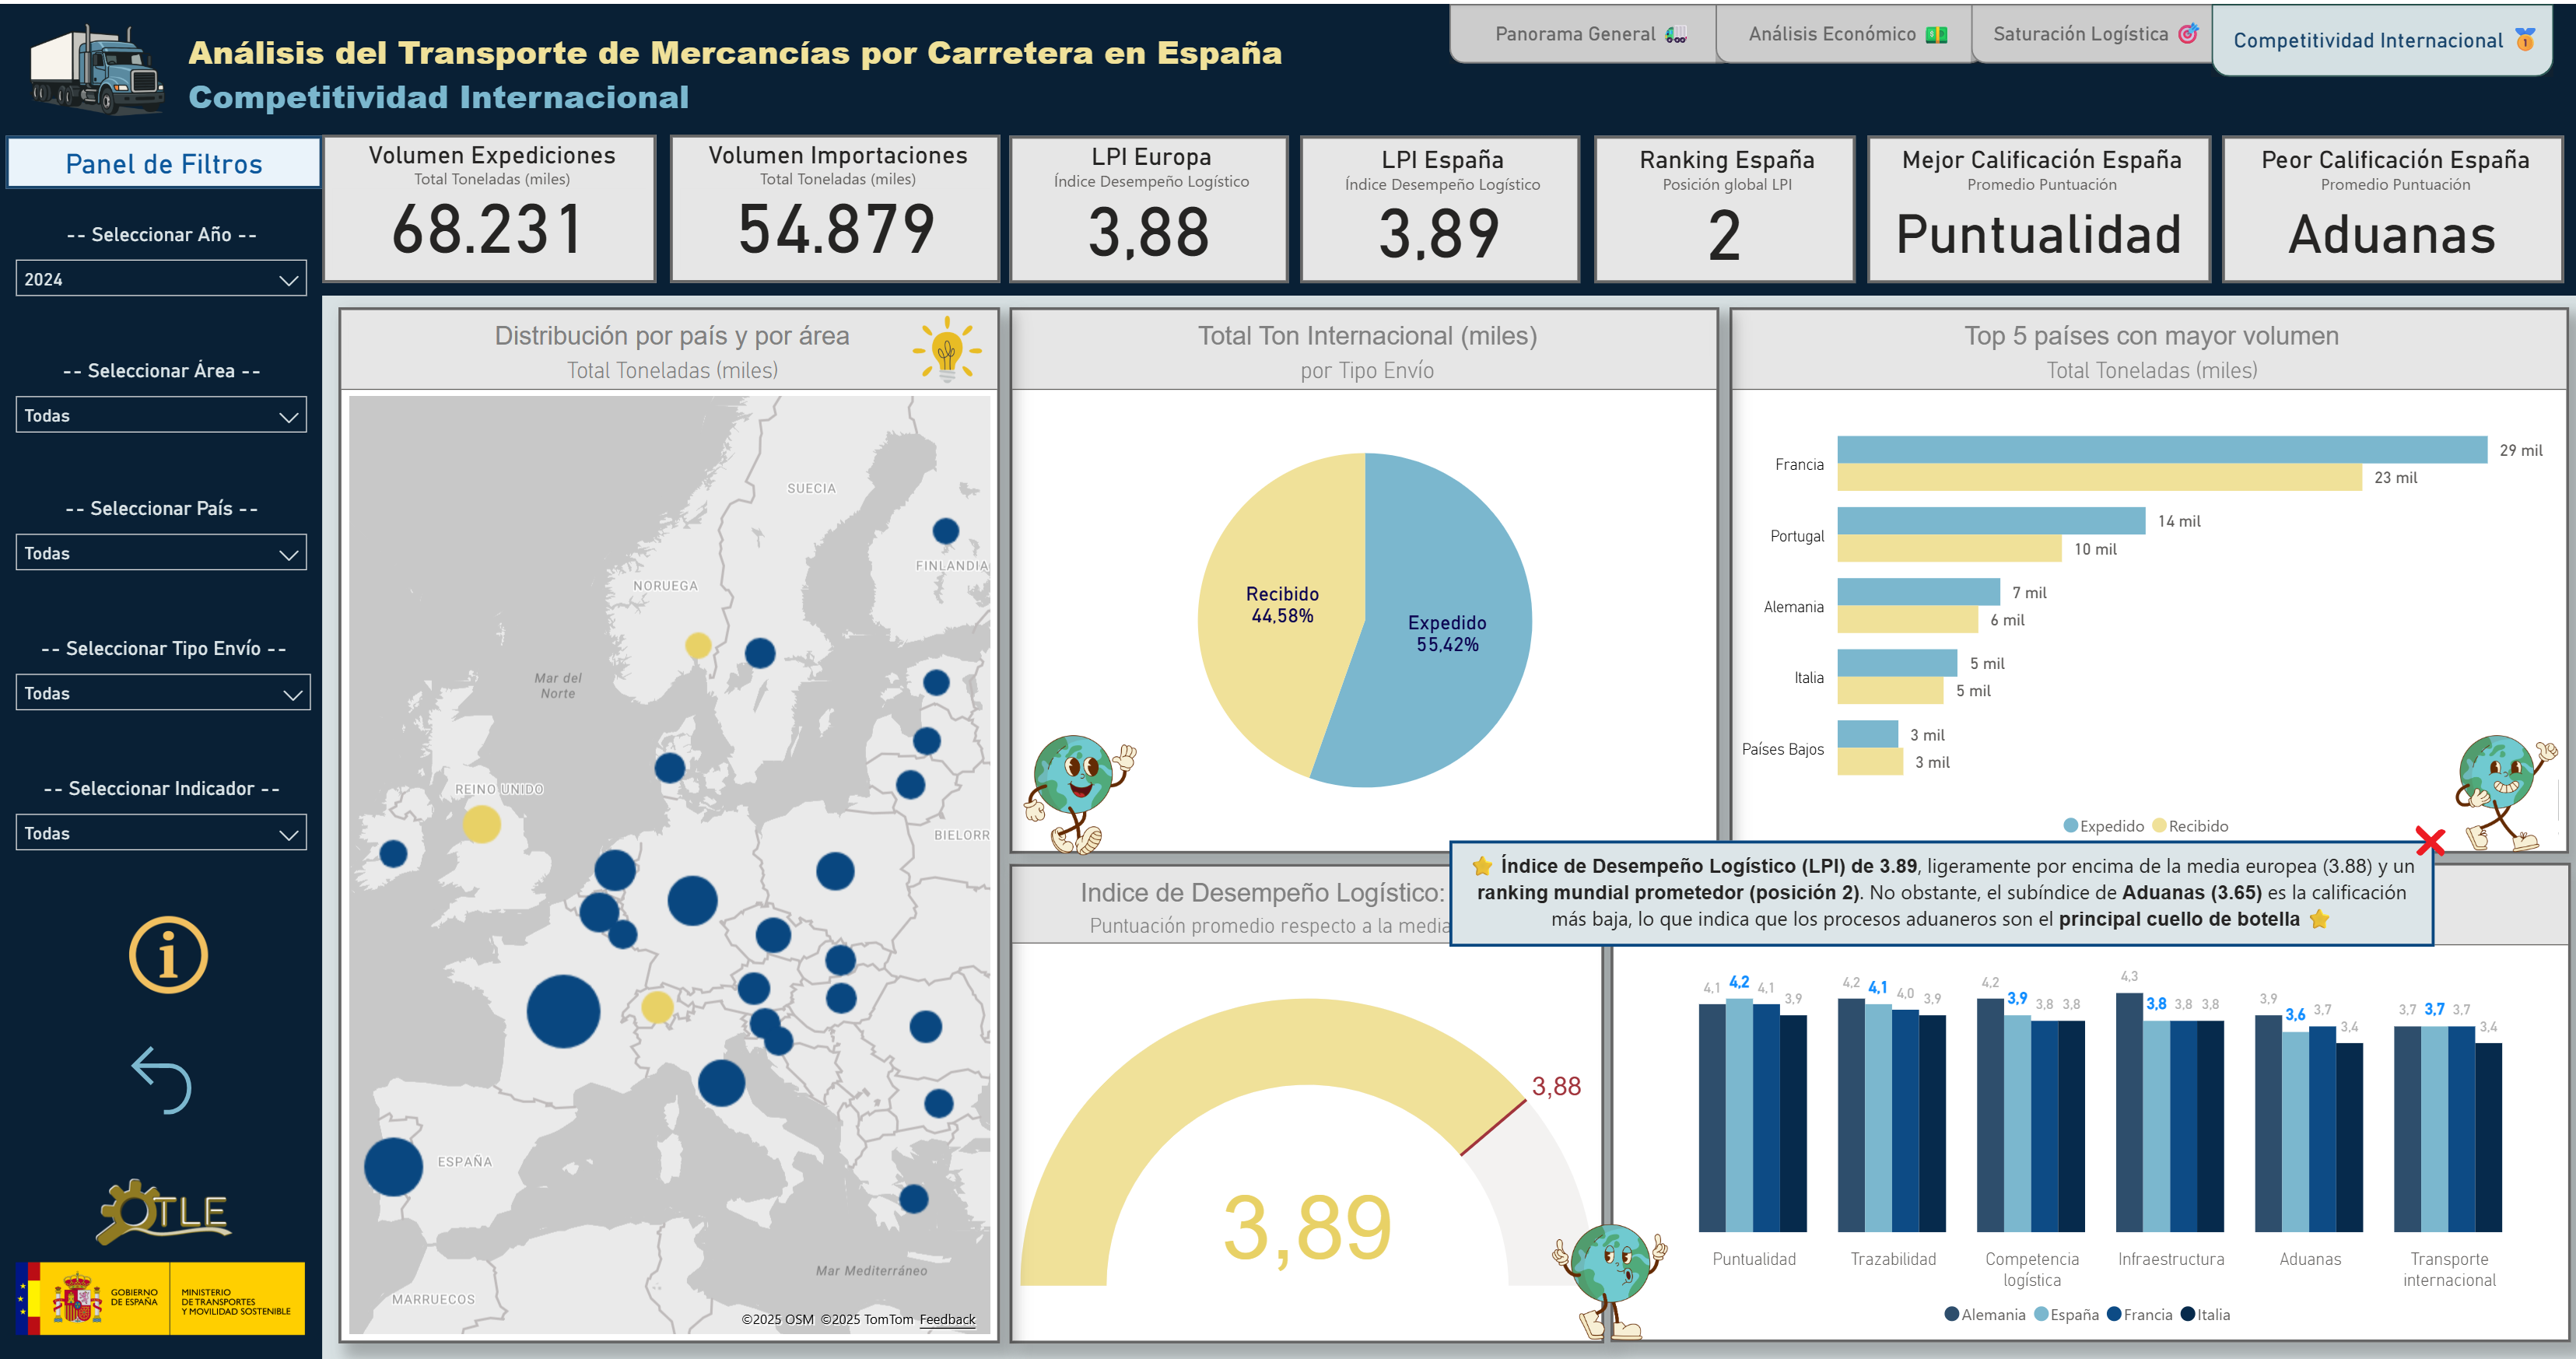

Layout of this report page (visuals, bound fields, positions):
{"tool":"powerbi","page":{"name":"Competitividad Internacional","canvas":[1747,920],"ordinal":4},"visuals":[{"type":"group","id":"g1","title":"Panel diseño","box":[0,0,1799.4,919.6],"z":0},{"type":"shape","box":[0,0,1799.4,197.8],"z":0,"group":"g1"},{"type":"shape","box":[0,81,218.5,838.5],"z":1000,"group":"g1"},{"type":"cardVisual","title":"Ranking España","fields":{"Data":["Avg(Indice Desempeño (LPI).Ranking)"]},"box":[1080.7,89.1,177,100],"z":1000},{"type":"textbox","box":[122.3,11.7,759,75.5],"z":2000,"group":"g1"},{"type":"image","title":"Info 4","box":[79.1,613.3,70.1,62.9],"z":2000},{"type":"slicer","title":"-- Seleccionar Año --","fields":{"Values":["Año Dim.Año"]},"box":[0.9,148.4,217.6,63.8],"z":3000},{"type":"slicer","title":"-- Seleccionar Área --","fields":{"Values":["Dim Paises.Área"]},"box":[0.9,241.4,217.6,63],"z":4000},{"type":"slicer","title":"-- Seleccionar País --","fields":{"Values":["Dim Paises.País"]},"box":[0.9,335.1,217.6,63.9],"z":5000},{"type":"image","title":"Ocultar Info Pag 2","box":[949.3,777.2,57.4,81.3],"z":6000},{"type":"slicer","title":"-- Seleccionar Indicador --","fields":{"Values":["Indice Desempeño (LPI).Indicador"]},"box":[0.9,524.3,217.6,63.8],"z":7000},{"type":"slicer","title":"-- Seleccionar Tipo Envío --","fields":{"Values":["Tipo Envio Dim.Tipo Envío"]},"box":[0.9,429.9,220.3,63.8],"z":8000},{"type":"textbox","box":[3.6,89,214.9,36],"z":9000},{"type":"clusteredBarChart","title":"Top 5 países con mayor volumen","fields":{"Category":["Dim Paises.País"],"Y":["Medidas Internacional.Total Ton Internacional (miles)"],"Series":["Dim Tipo Envio.Tipo Envío"]},"box":[1172.9,206,569.1,370.6],"z":10000},{"type":"cardVisual","title":"Mejor Calificación España","fields":{"Data":["Min(Indice Desempeño (LPI).Indicador)"]},"box":[1266.1,89.4,233.4,99.7],"z":11000},{"type":"cardVisual","title":"LPI Europa","fields":{"Data":["Medidas Internacional.LPI Promedio"]},"box":[684.8,89.4,189.1,100],"z":12000},{"type":"shape","box":[982.9,0,195,40.4],"z":13000},{"type":"shape","box":[1163.5,0,182.5,40.4],"z":14000},{"type":"shape","box":[1336.4,0,172.9,40.4],"z":15000},{"type":"shape","box":[1499.1,0,232,49.5],"z":16000},{"type":"image","box":[4,846.7,208.9,62.5],"z":17000},{"type":"image","box":[9.5,791.3,203.4,55.4],"z":18000},{"type":"actionButton","box":[80,699.6,59.4,61.2],"z":19000},{"type":"cardVisual","title":"LPI España","fields":{"Data":["Medidas Internacional.LPI Promedio España"]},"box":[881.5,89.1,189.9,100],"z":20000},{"type":"pieChart","fields":{"Category":["Dim Tipo Envio.Tipo Envío"],"Y":["Medidas Internacional.Total Ton Internacional (miles)"]},"box":[684.8,206,481.6,370.6],"z":22000},{"type":"cardVisual","title":"Peor Calificación España","fields":{"Data":["Min(Indice Desempeño (LPI).Indicador)"]},"box":[1506.6,89.4,231.8,99.7],"z":23000},{"type":"cardVisual","title":"Volumen Expediciones","fields":{"Data":["Medidas Internacional.Total Ton Internacional (miles)"]},"box":[218.7,88.8,226.9,100.6],"z":24000},{"type":"gauge","title":"Indice de Desempeño Logístico: España","fields":{"TargetValue":["Medidas Internacional.LPI Promedio"],"Y":["Medidas Internacional.LPI Promedio España"],"MaxValue":["Medidas Internacional.MAximo"],"MinValue":["Medidas Internacional.Minimo"]},"box":[684.8,583.2,403.5,325.4],"z":25000},{"type":"clusteredColumnChart","title":"Indicadores Evaluados","fields":{"Category":["Indice Desempeño (LPI).Indicador"],"Y":["Medidas Internacional.LPI Promedio"],"Series":["Dim Paises.País"]},"box":[1092,582.4,651.2,325.2],"z":26000},{"type":"azureMap","title":"Distribución por país y por área","fields":{"Series":["Dim Paises.Área"],"Category":["Dim Paises.País","Dim Paises.Área"],"Size":["Medidas Internacional.Total Ton Internacional (miles)"]},"box":[229.1,205.6,448.9,702.5],"z":27000},{"type":"cardVisual","title":"Volumen Importaciones","fields":{"Data":["Medidas Internacional.Total Ton Internacional (miles)"]},"box":[453.8,88.8,224.2,100.6],"z":28000},{"type":"image","box":[684.6,490.8,95.7,91.6],"z":29000},{"type":"image","box":[1653,490.8,94,89.9],"z":30000},{"type":"image","box":[1044.1,819.2,96.2,92.6],"z":31000},{"type":"image","box":[9.9,0,111.5,80.9],"z":32000},{"type":"image","box":[613,205.7,58.4,57.6],"z":33000}]}

Visuals, with their boxes in screenshot pixels (x1, y1, x2, y2), scaled from the page's 1747x920 canvas onto the 2576x1359 screenshot:
"Panel diseño" group: [x1=0, y1=0, x2=2575, y2=1358]
shape: [x1=0, y1=0, x2=2575, y2=292]
shape: [x1=0, y1=120, x2=322, y2=1358]
"Ranking España" cardVisual: [x1=1593, y1=131, x2=1855, y2=279]
textbox: [x1=180, y1=17, x2=1299, y2=129]
"Info 4" image: [x1=117, y1=906, x2=220, y2=999]
"-- Seleccionar Año --" slicer: [x1=2, y1=219, x2=322, y2=313]
"-- Seleccionar Área --" slicer: [x1=2, y1=356, x2=322, y2=450]
"-- Seleccionar País --" slicer: [x1=2, y1=495, x2=322, y2=590]
"Ocultar Info Pag 2" image: [x1=1400, y1=1148, x2=1484, y2=1268]
"-- Seleccionar Indicador --" slicer: [x1=2, y1=775, x2=322, y2=869]
"-- Seleccionar Tipo Envío --" slicer: [x1=2, y1=635, x2=326, y2=729]
textbox: [x1=5, y1=131, x2=322, y2=184]
"Top 5 países con mayor volumen" clusteredBarChart: [x1=1730, y1=304, x2=2569, y2=852]
"Mejor Calificación España" cardVisual: [x1=1867, y1=132, x2=2211, y2=279]
"LPI Europa" cardVisual: [x1=1010, y1=132, x2=1288, y2=280]
shape: [x1=1449, y1=0, x2=1737, y2=60]
shape: [x1=1716, y1=0, x2=1985, y2=60]
shape: [x1=1971, y1=0, x2=2225, y2=60]
shape: [x1=2210, y1=0, x2=2553, y2=73]
image: [x1=6, y1=1251, x2=314, y2=1343]
image: [x1=14, y1=1169, x2=314, y2=1251]
actionButton: [x1=118, y1=1033, x2=205, y2=1124]
"LPI España" cardVisual: [x1=1300, y1=131, x2=1580, y2=279]
pieChart - Dim Tipo Envio.Tipo Envío x Medidas Internacional.Total Ton Internacional (miles): [x1=1010, y1=304, x2=1720, y2=852]
"Peor Calificación España" cardVisual: [x1=2221, y1=132, x2=2564, y2=279]
"Volumen Expediciones" cardVisual: [x1=322, y1=131, x2=657, y2=280]
"Indice de Desempeño Logístico: España" gauge: [x1=1010, y1=861, x2=1605, y2=1342]
"Indicadores Evaluados" clusteredColumnChart: [x1=1610, y1=860, x2=2571, y2=1340]
"Distribución por país y por área" azureMap: [x1=338, y1=303, x2=1000, y2=1341]
"Volumen Importaciones" cardVisual: [x1=669, y1=131, x2=1000, y2=280]
image: [x1=1009, y1=725, x2=1151, y2=860]
image: [x1=2438, y1=725, x2=2575, y2=858]
image: [x1=1540, y1=1210, x2=1681, y2=1347]
image: [x1=15, y1=0, x2=179, y2=120]
image: [x1=904, y1=304, x2=990, y2=389]
